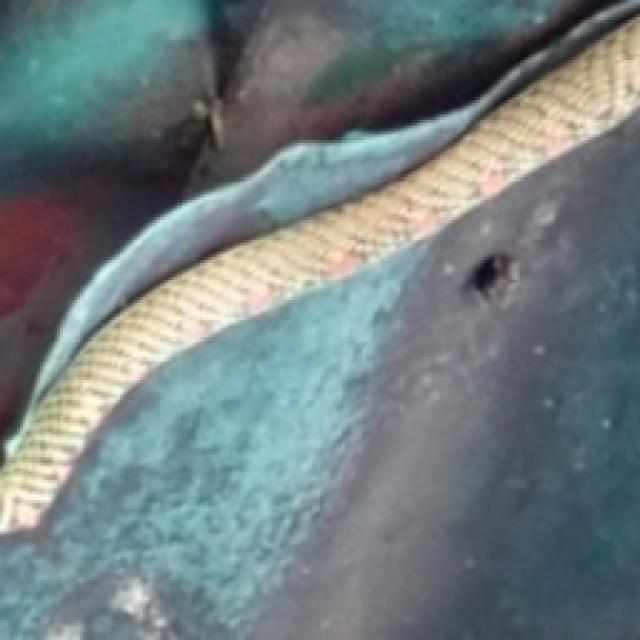paradise tree snake: (0, 17, 640, 532)
